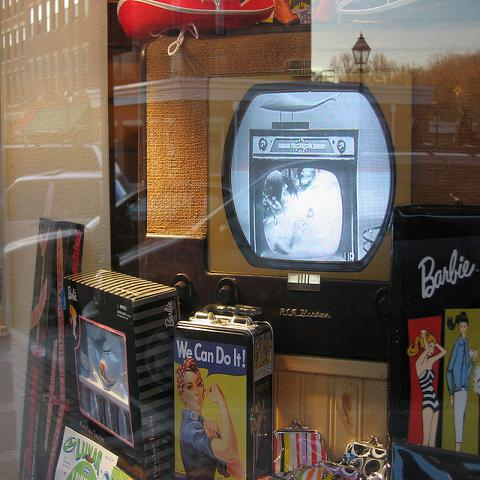car: (5, 170, 102, 247), (114, 160, 147, 250)
